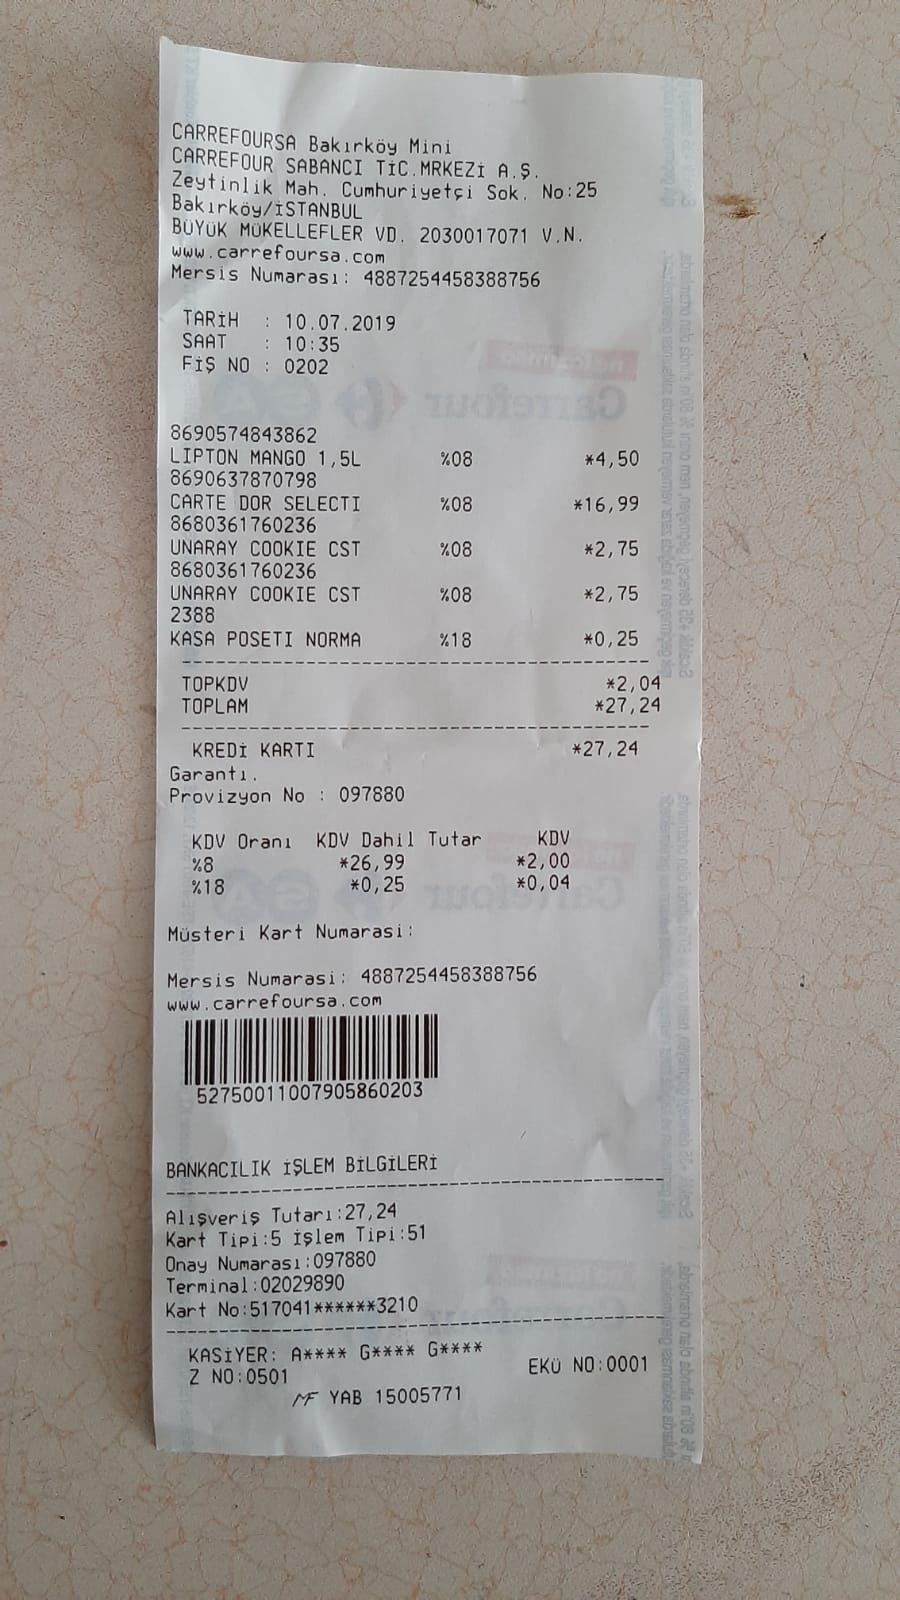total: (174, 689, 674, 720)
